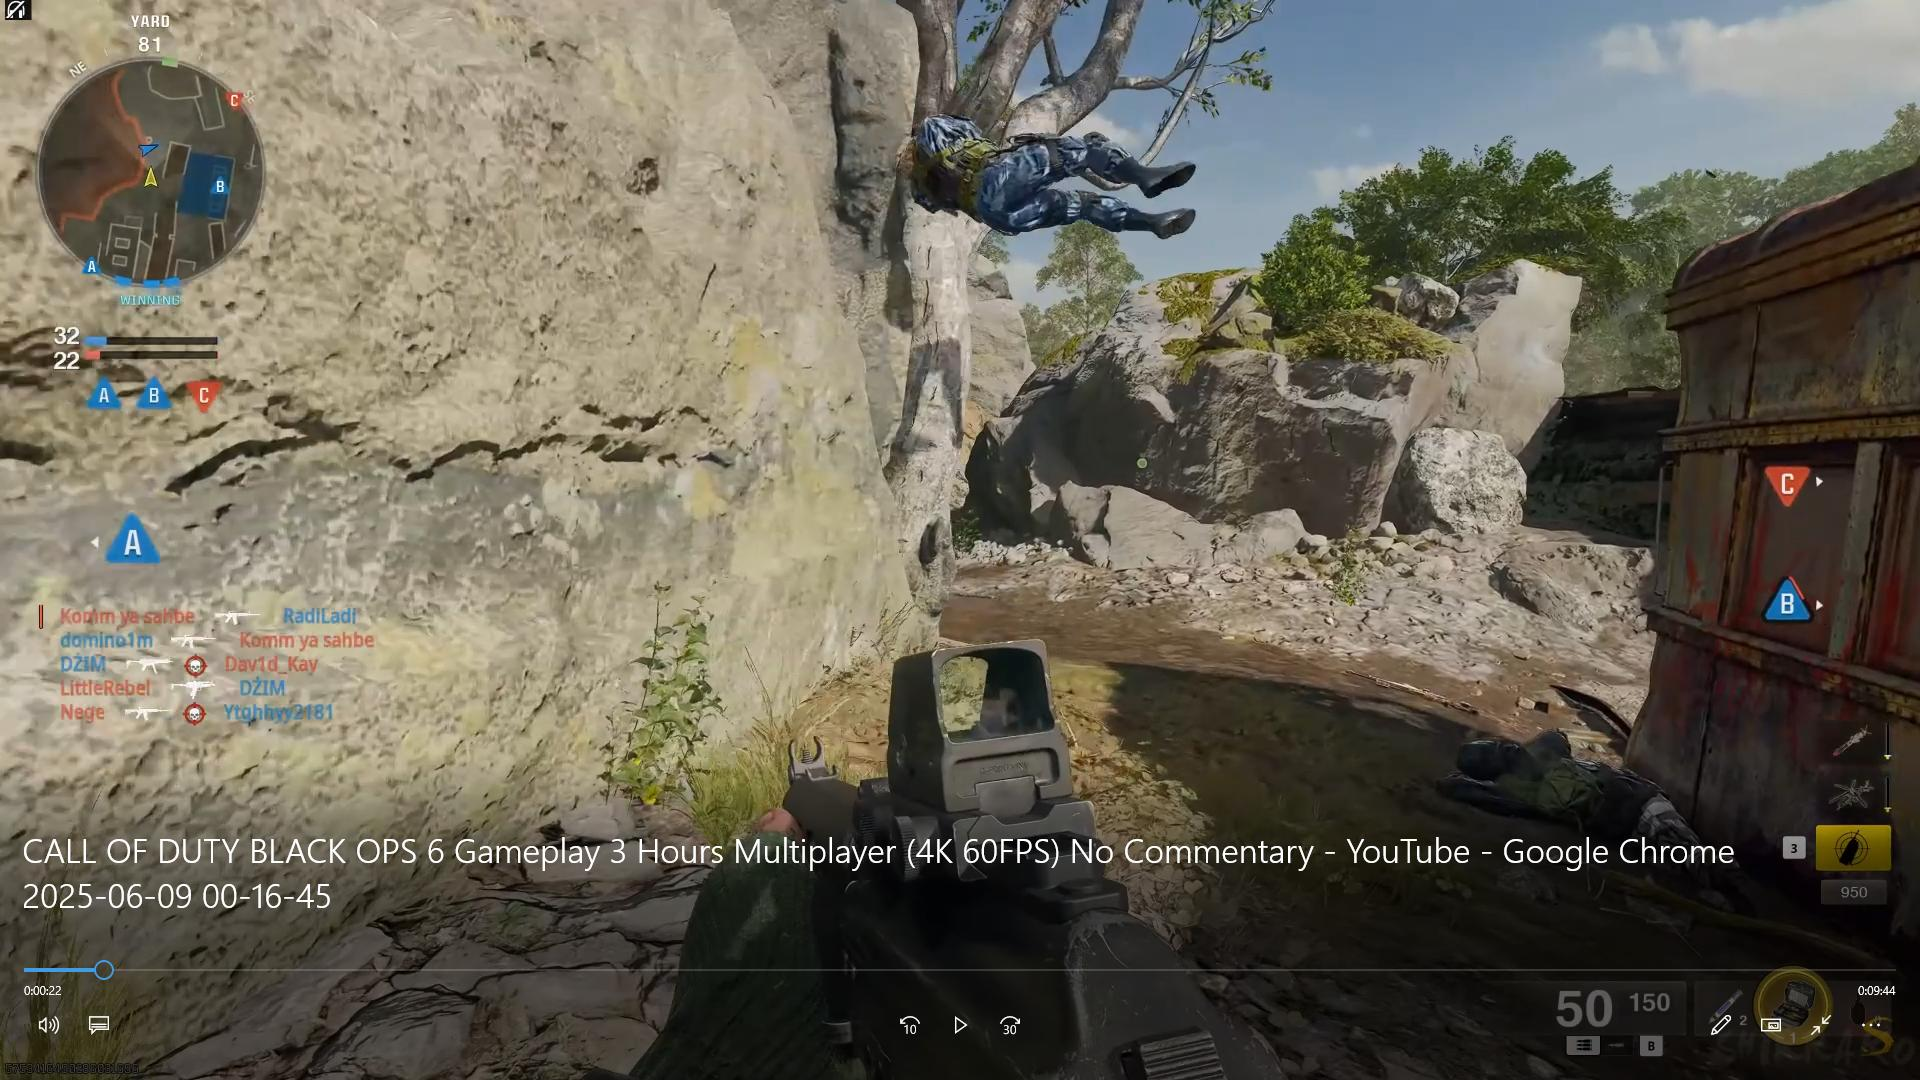Enemy: (872, 104, 1203, 249)
